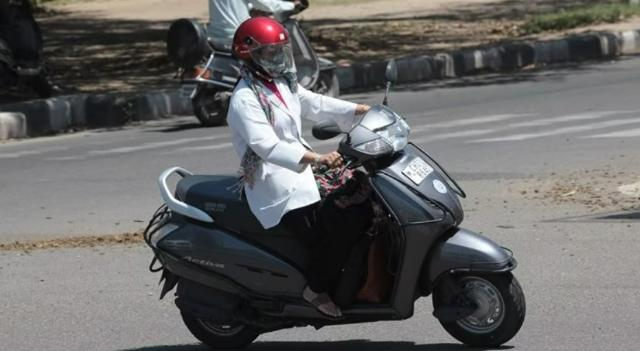licensePlate: (401, 155, 437, 187)
motorcycle: (136, 17, 527, 348)
withHelmet: (228, 21, 300, 83)
